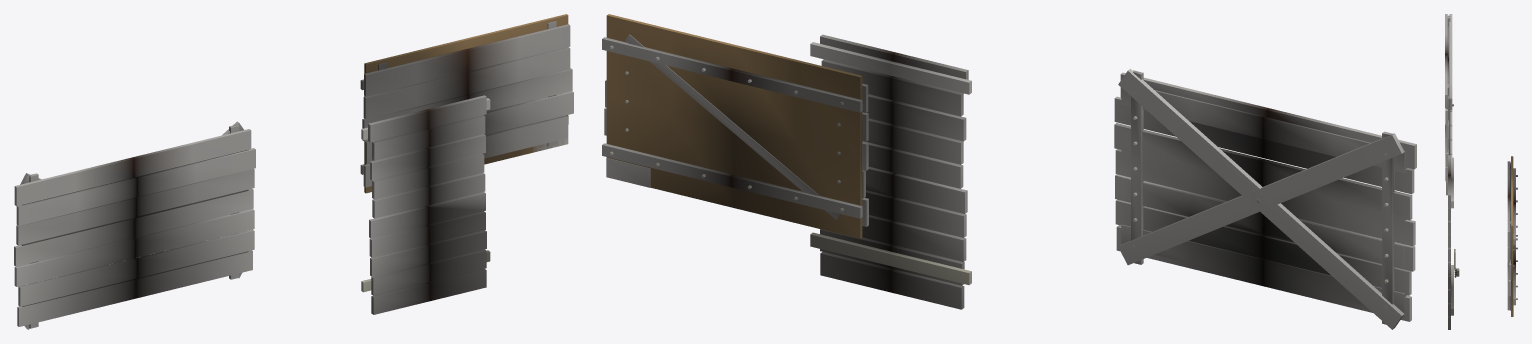
The model's file is boards_transit_depot.glb.
3 views of the same model, side by side, from view 1: azimuth 30°, elevation 25°; view 2: azimuth 150°, elevation 25°; view 3: azimuth 270°, elevation 25° (orthographic). The views are drawn at different scales.
Visible parts, largest first — view 1: boards_transit_depot; view 2: boards_transit_depot; view 3: boards_transit_depot.
Part boxes in pixels (<box>): boards_transit_depot: <box>14,14,573,329</box>; boards_transit_depot: <box>602,14,1416,329</box>; boards_transit_depot: <box>1445,14,1517,329</box>.
Size of the model in its own units: 6.55 by 2.33 by 0.9692.
